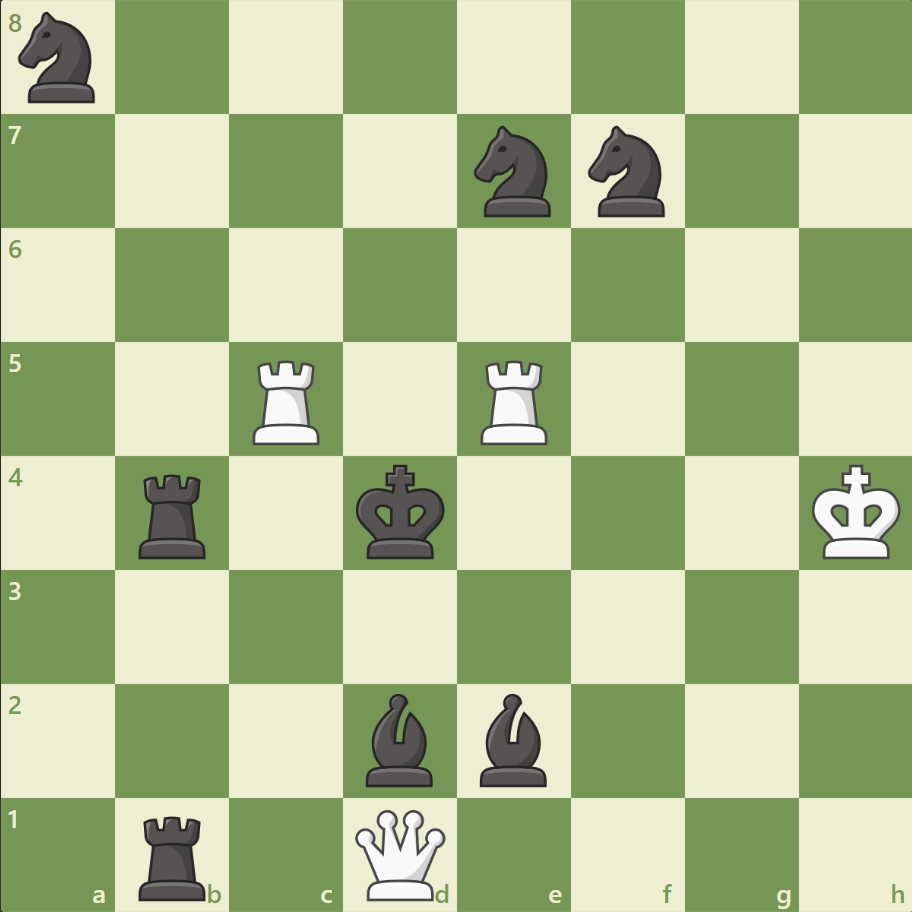K: (806, 458, 906, 566)
Q: (351, 804, 450, 903)
R: (246, 352, 329, 449), (473, 352, 556, 449)
b: (358, 687, 442, 790), (471, 687, 555, 790)
k: (351, 458, 451, 566)
n: (11, 7, 108, 110), (465, 121, 562, 223), (579, 121, 676, 223)
r: (133, 806, 215, 904), (133, 466, 215, 563)
